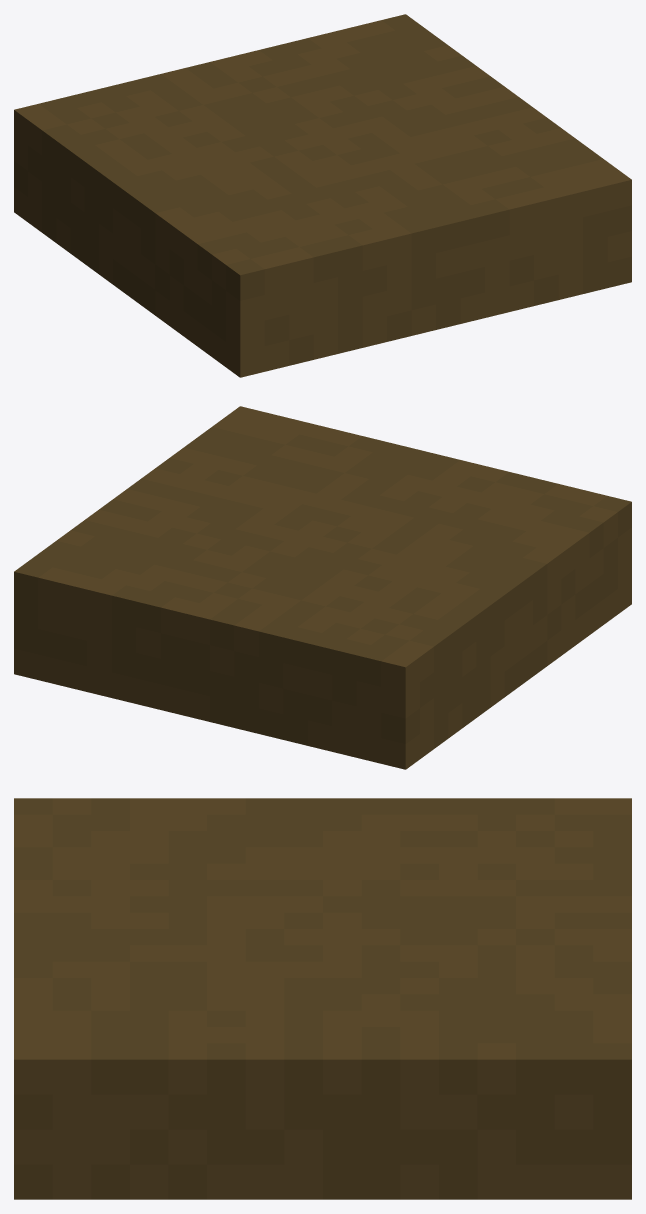
The model's file is tavern-42-roof_top.obj.
3 views of the same model, one above another, from view 1: azimuth 30°, elevation 25°; view 2: azimuth 150°, elevation 25°; view 3: azimuth 270°, elevation 25° (orthographic). The views are drawn at different scales.
Parts seen in each view (by area): view 1: roof_top; view 2: roof_top; view 3: roof_top.
Part boxes in pixels (x1,y1,x2,y2): roof_top: (14,14,631,377); roof_top: (14,406,631,769); roof_top: (14,798,631,1199).
Bounding box in the file's own units: 1.6 × 0.4 × 1.6.
Materials: 1 (1 with a texture image).
